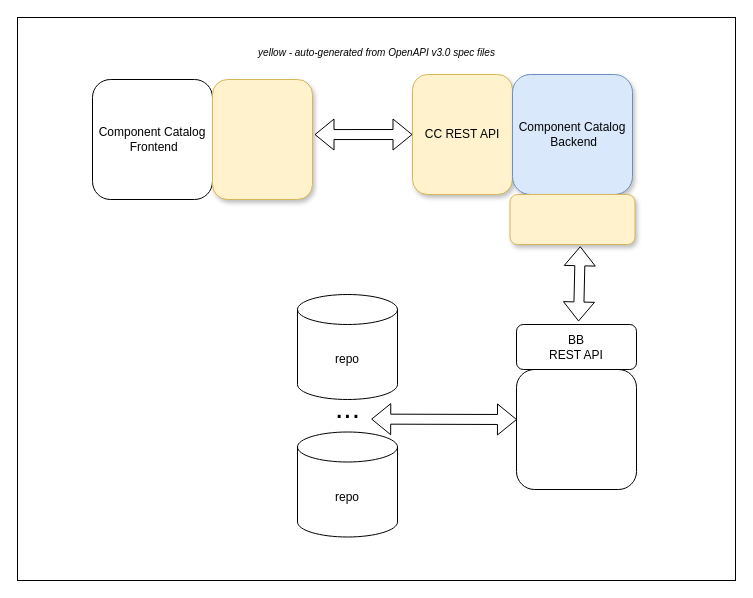
Some shapes in this 753 by 598 pixel diagram are drawn without their labels. Here are the shapes that lost their labels. From the top down, the centre of each, then its label:
At [263,140]: "CC REST Client".
At [573,221]: "BB REST Client".
At [576,429]: "Bitbucket Data Center".
